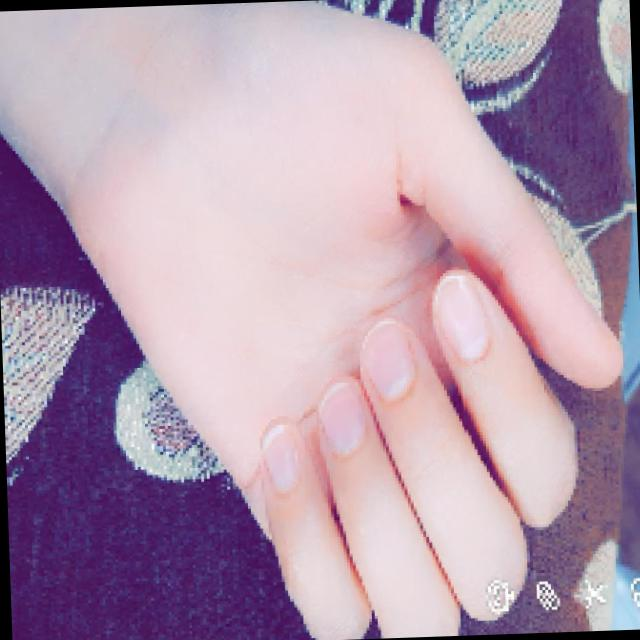Nail: (432, 271, 487, 362), (360, 321, 413, 399), (319, 380, 364, 455), (263, 424, 296, 492)
